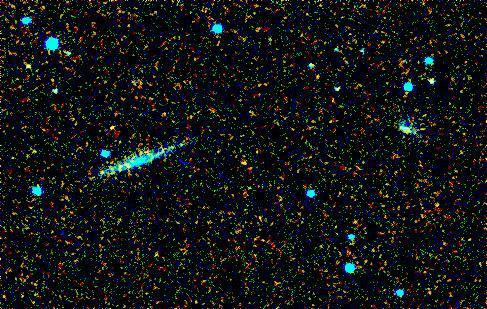star: (96, 112, 126, 142)
